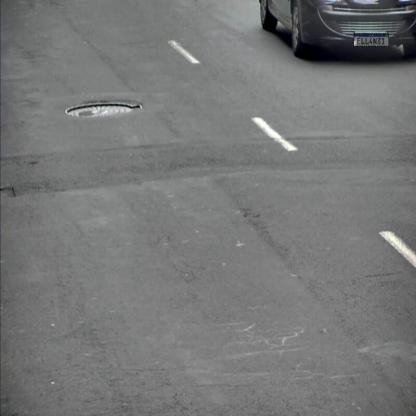PlacaM: (354, 34, 389, 46)
